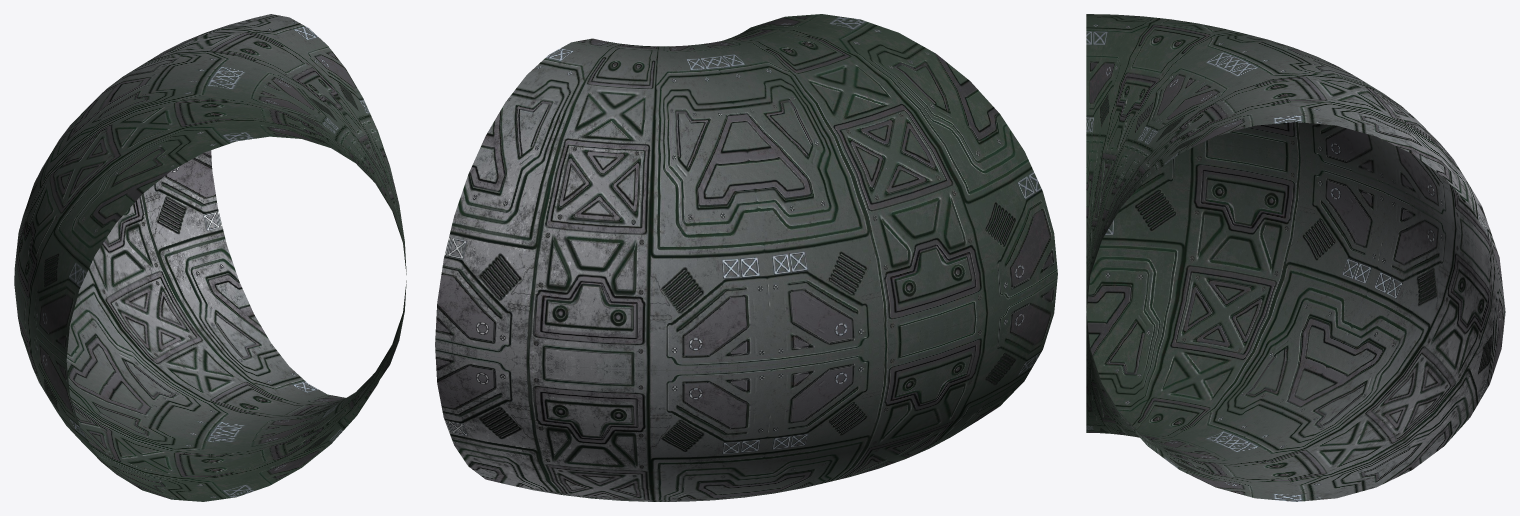
File: tubecube_turn.obj
3 renders of one model, left to right at view 1: azimuth 30°, elevation 25°; view 2: azimuth 150°, elevation 25°; view 3: azimuth 270°, elevation 25°, orthographic. The views are drawn at different scales.
Parts seen in each view (by area): view 1: Cylinder; view 2: Cylinder; view 3: Cylinder.
Part boxes in pixels (x1=…): Cylinder: x1=14, y1=14, x2=406, y2=501; Cylinder: x1=435, y1=14, x2=1057, y2=501; Cylinder: x1=1086, y1=14, x2=1505, y2=501.
Size of the model in its own units: 40 by 40 by 40.
Materials: 1 (1 with a texture image).
